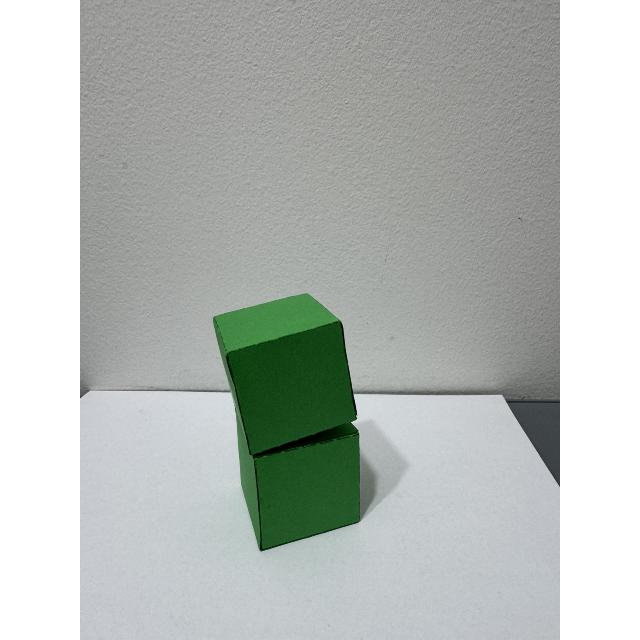green_cube: (195, 276, 403, 546)
